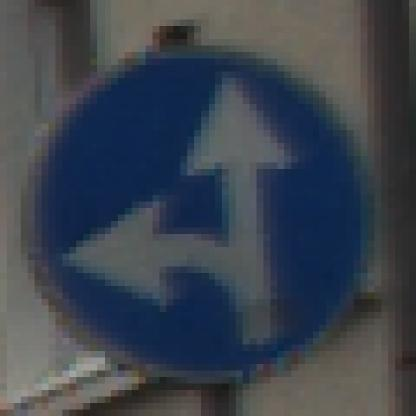Straight or Left: (36, 40, 382, 384)
